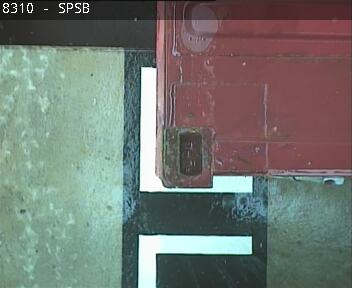groundmarker_1: (137, 68, 254, 287)
